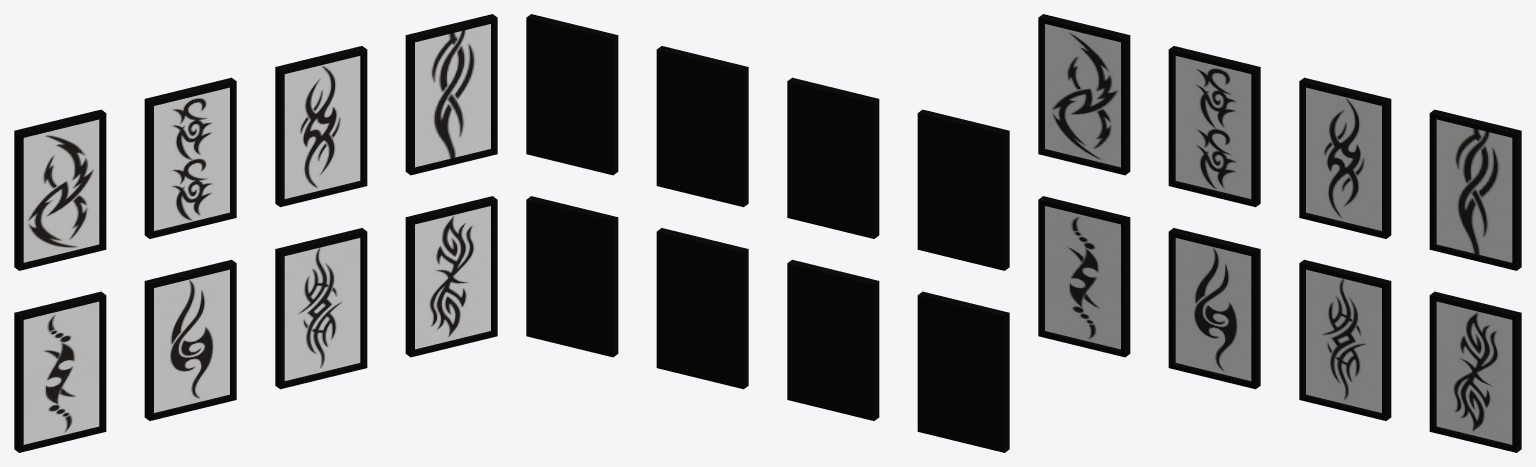
File: TattoFrames.fbx
The picture shows the model from 3 angles, left to right: view 1: azimuth 30°, elevation 25°; view 2: azimuth 150°, elevation 25°; view 3: azimuth 330°, elevation 25°; orthographic projection.
Parts seen in each view (by area): view 1: Painting_04, Painting_05, Painting_01, Painting_02, Painting_03, Painting_06, Painting_07, Painting_08; view 2: Painting_04, Painting_05, Painting_01, Painting_02, Painting_03, Painting_06, Painting_07, Painting_08; view 3: Painting_01, Painting_08, Painting_02, Painting_03, Painting_04, Painting_05, Painting_06, Painting_07.
Part boxes in pixels (left/top/right/bottom): Painting_04: left=405, top=14, right=497, bottom=175; Painting_05: left=14, top=291, right=106, bottom=452; Painting_01: left=14, top=109, right=106, bottom=270; Painting_02: left=144, top=77, right=236, bottom=238; Painting_03: left=275, top=46, right=367, bottom=207; Painting_06: left=144, top=259, right=236, bottom=420; Painting_07: left=275, top=228, right=367, bottom=389; Painting_08: left=405, top=196, right=497, bottom=357; Painting_04: left=526, top=14, right=618, bottom=175; Painting_05: left=917, top=291, right=1009, bottom=452; Painting_01: left=917, top=109, right=1009, bottom=270; Painting_02: left=787, top=77, right=879, bottom=238; Painting_03: left=656, top=46, right=748, bottom=207; Painting_06: left=787, top=259, right=879, bottom=420; Painting_07: left=656, top=228, right=748, bottom=389; Painting_08: left=526, top=196, right=618, bottom=357; Painting_01: left=1038, top=14, right=1130, bottom=175; Painting_08: left=1429, top=291, right=1521, bottom=452; Painting_02: left=1168, top=46, right=1260, bottom=207; Painting_03: left=1299, top=77, right=1391, bottom=238; Painting_04: left=1429, top=109, right=1521, bottom=270; Painting_05: left=1038, top=196, right=1130, bottom=357; Painting_06: left=1168, top=228, right=1260, bottom=389; Painting_07: left=1299, top=259, right=1391, bottom=420.
Size of the model in its own units: 1100 by 700 by 20.
2 materials, 1 textured.
